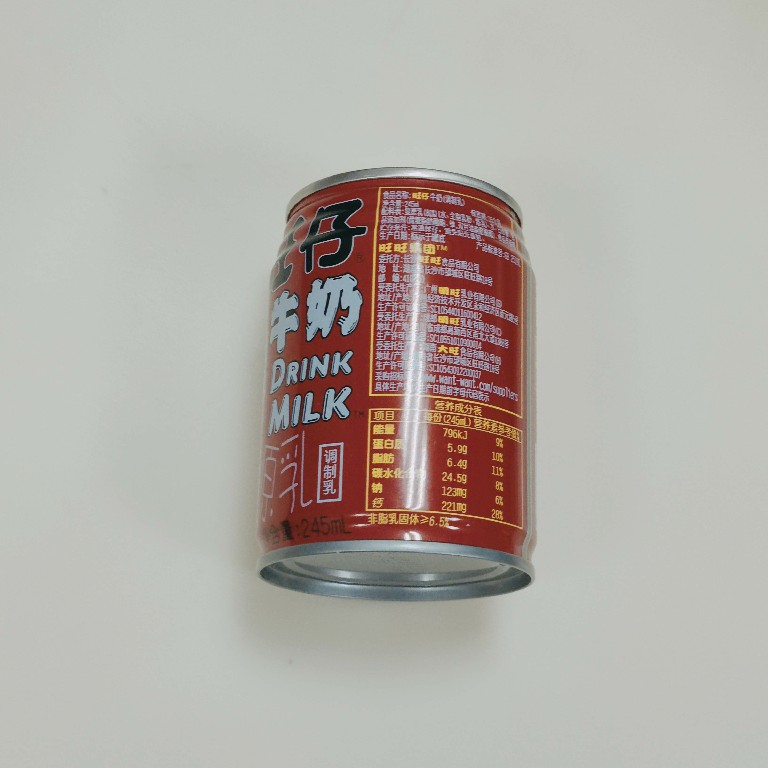can: (246, 163, 555, 603)
